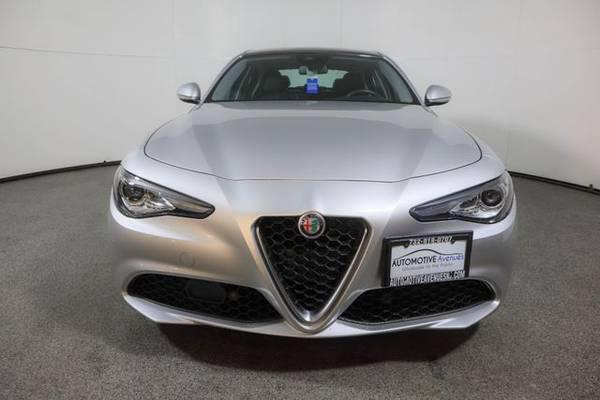Front_Bumper: (309, 201, 518, 340), (108, 202, 306, 336)
Front_Windshield: (207, 47, 423, 102)
Grille: (253, 214, 369, 332)
Hood: (122, 100, 508, 215)
Left_Headlight: (411, 171, 513, 224)
Left_Mirror: (424, 84, 453, 106)
Right_Headlight: (112, 164, 219, 218)
Right_Mirror: (178, 81, 200, 103)
